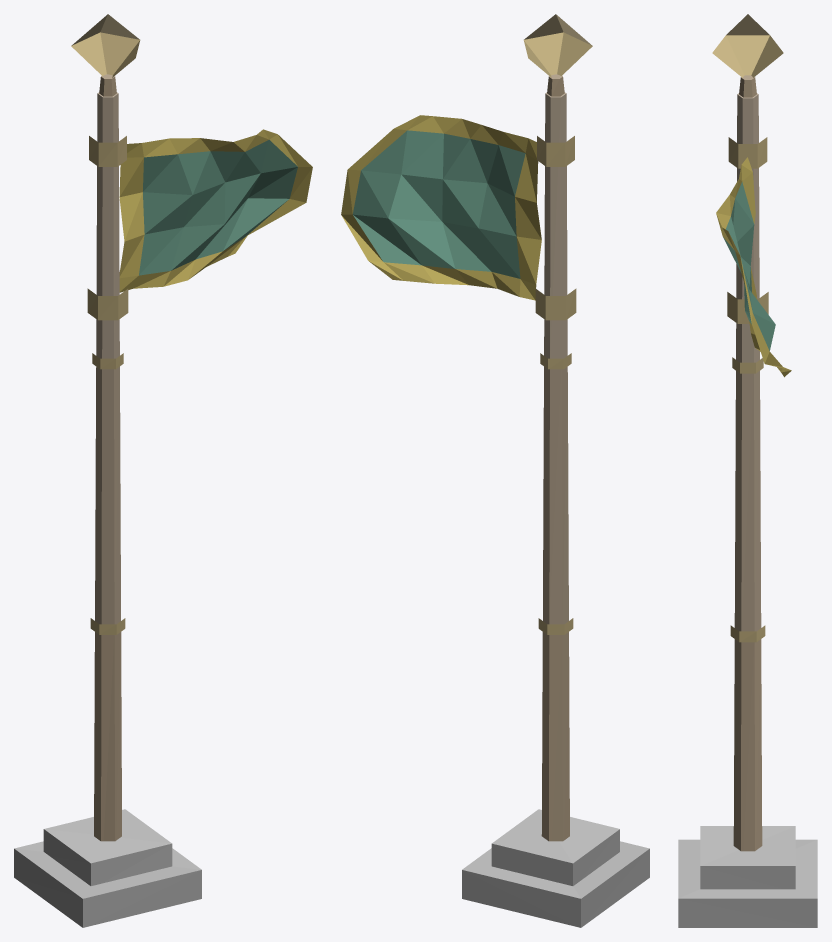
Rendered from flag.roundFly.cuiqi__pole.ground.gaogan__masthead.glb.
3 views of the same model, side by side, from view 1: azimuth 30°, elevation 25°; view 2: azimuth 150°, elevation 25°; view 3: azimuth 270°, elevation 25° (orthographic).
Visible parts, largest first — view 1: flag.roundFly.cuiqi; view 2: flag.roundFly.cuiqi; view 3: flag.roundFly.cuiqi.
Part boxes in pixels (box(x1,y1,x2,y2)): flag.roundFly.cuiqi: box(14, 14, 312, 927); flag.roundFly.cuiqi: box(341, 14, 649, 927); flag.roundFly.cuiqi: box(678, 14, 817, 927).
Bounding box in the file's own units: 1.82 × 5.72 × 0.816.
